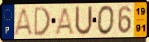6: (117, 5, 133, 35)
A: (53, 6, 76, 36), (12, 7, 35, 36)
D: (33, 5, 52, 38)
O: (97, 5, 116, 37)
U: (74, 5, 94, 38)
